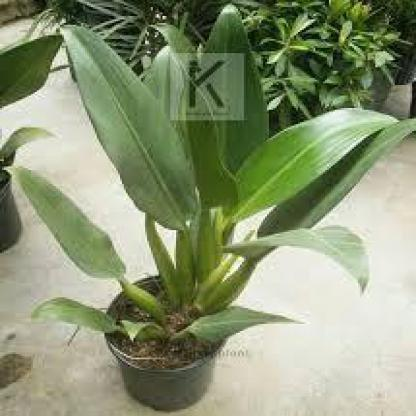Kenanga: (164, 55, 339, 271)
